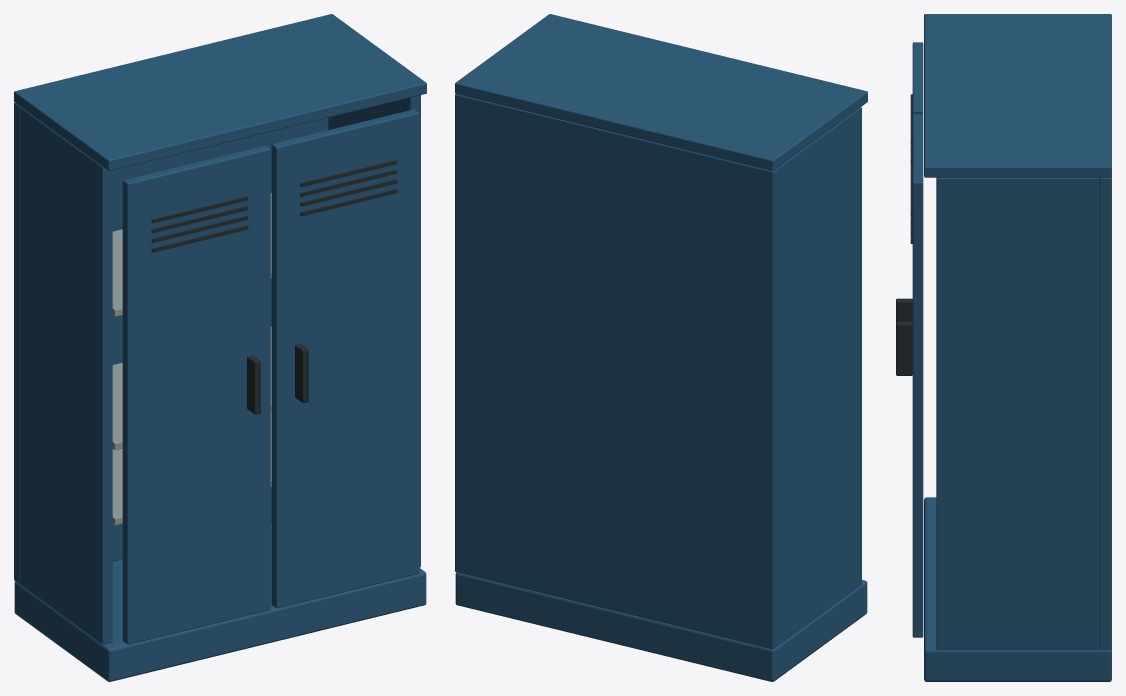
Rendered from source-edit.glb.
The picture shows the model from 3 angles, left to right: view 1: azimuth 30°, elevation 25°; view 2: azimuth 150°, elevation 25°; view 3: azimuth 270°, elevation 25°; orthographic projection.
Parts seen in each view (by area): view 1: Left_Door, Right_Door, CABINET_Side.001, CABINET_Top, CABINET_Base, CABINET_Back, CABINET_Side, CABINET_Shelf_1, CABINET_Shelf_2, CABINET_Shelf_0, Left_Handle, Right_Handle; view 2: CABINET_Back, CABINET_Side.001, CABINET_Top, CABINET_Base; view 3: CABINET_Side, CABINET_Top, CABINET_Base, Right_Door, CABINET_Back, Right_Handle, Left_Door, Left_Handle.
Boxes of the visible parts, x1,y1,x2,y2 form: Left_Door: [122, 145, 270, 644]; Right_Door: [271, 109, 419, 608]; CABINET_Side.001: [20, 107, 112, 644]; CABINET_Top: [14, 14, 426, 170]; CABINET_Base: [14, 523, 426, 681]; CABINET_Back: [14, 102, 328, 583]; CABINET_Side: [328, 95, 420, 567]; CABINET_Shelf_1: [112, 326, 271, 450]; CABINET_Shelf_2: [112, 193, 271, 316]; CABINET_Shelf_0: [112, 412, 271, 525]; Left_Handle: [247, 355, 260, 414]; Right_Handle: [295, 344, 308, 402]; CABINET_Back: [455, 94, 778, 649]; CABINET_Side.001: [778, 107, 861, 644]; CABINET_Top: [455, 14, 867, 170]; CABINET_Base: [455, 572, 867, 681]; CABINET_Side: [936, 177, 1099, 649]; CABINET_Top: [924, 14, 1111, 177]; CABINET_Base: [924, 497, 1111, 681]; Right_Door: [912, 114, 923, 637]; CABINET_Back: [1099, 176, 1111, 649]; Right_Handle: [896, 321, 912, 375]; Left_Door: [912, 42, 923, 114]; Left_Handle: [896, 298, 912, 322].
Size of the model in its own units: 1.2 by 1.88 by 0.7125.
